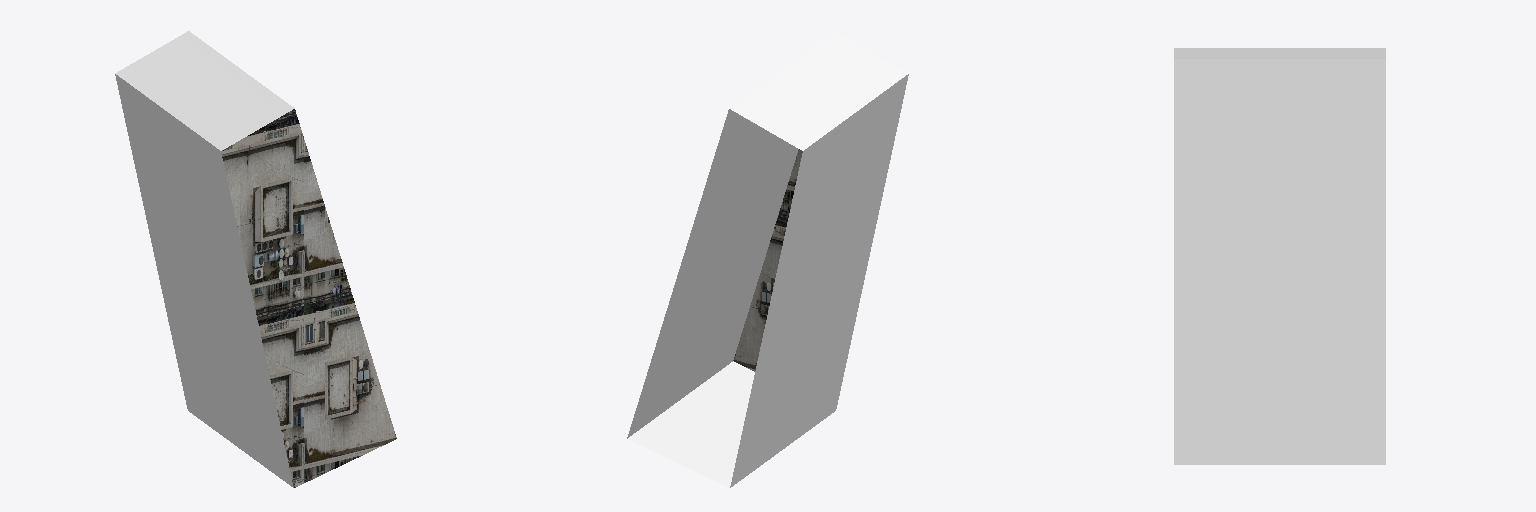
3 renders of one model, left to right at view 1: azimuth 30°, elevation 25°; view 2: azimuth 150°, elevation 25°; view 3: azimuth 270°, elevation 25°, orthographic.
Parts seen in each view (by area): view 1: Building; view 2: Building; view 3: Building.
Part boxes in pixels (left/top/right/bottom): Building: left=115, top=31, right=396, bottom=487; Building: left=627, top=31, right=908, bottom=487; Building: left=1174, top=48, right=1385, bottom=464.
Bounding box in the file's own units: 8.61 × 17.75 × 9.
2 materials, 1 textured.